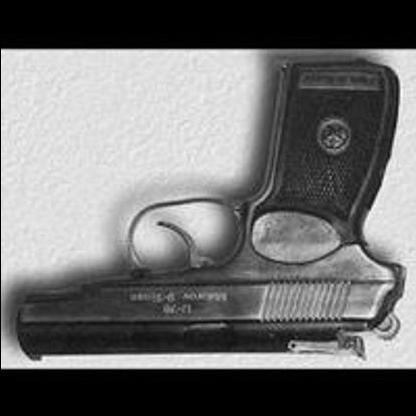weapon: (12, 54, 409, 363)
